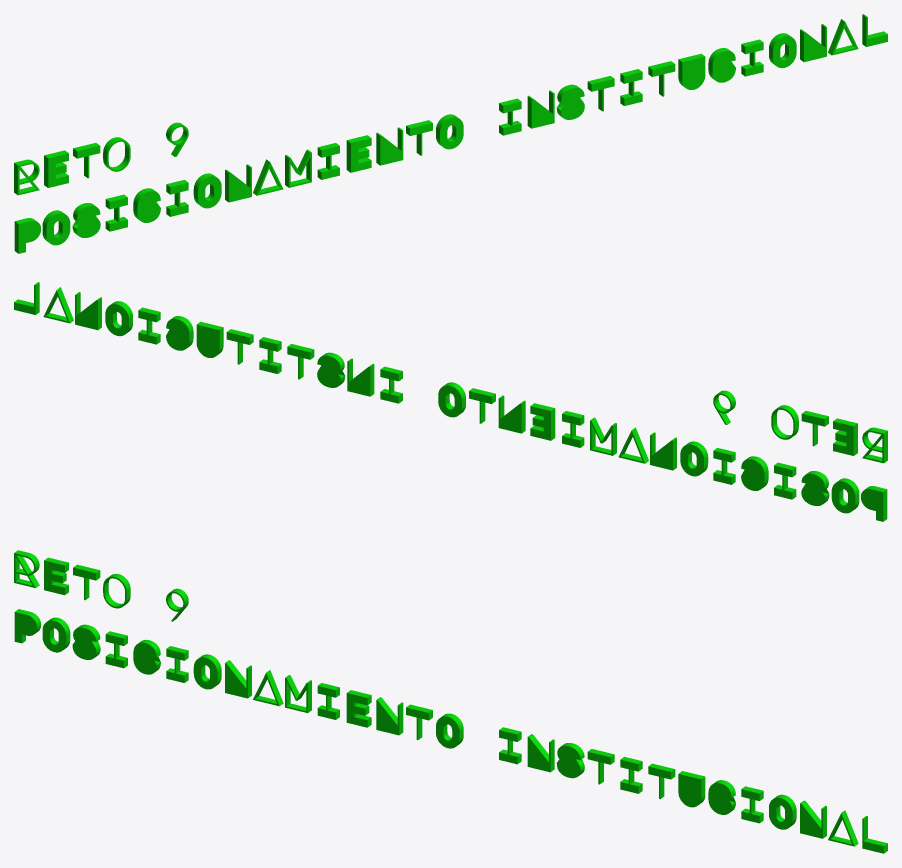
File: RETO9.fbx
3 views of the same model, one above another, from view 1: azimuth 30°, elevation 25°; view 2: azimuth 150°, elevation 25°; view 3: azimuth 330°, elevation 25° (orthographic).
Parts seen in each view (by area): view 1: typeMesh9; view 2: typeMesh9; view 3: typeMesh9.
Boxes of the visible parts, box(x1,y1,x2,y2) form: typeMesh9: box(14, 14, 887, 253); typeMesh9: box(14, 282, 887, 521); typeMesh9: box(14, 550, 887, 853).
Bounding box in the file's own units: 311 × 30.66 × 2.5.
